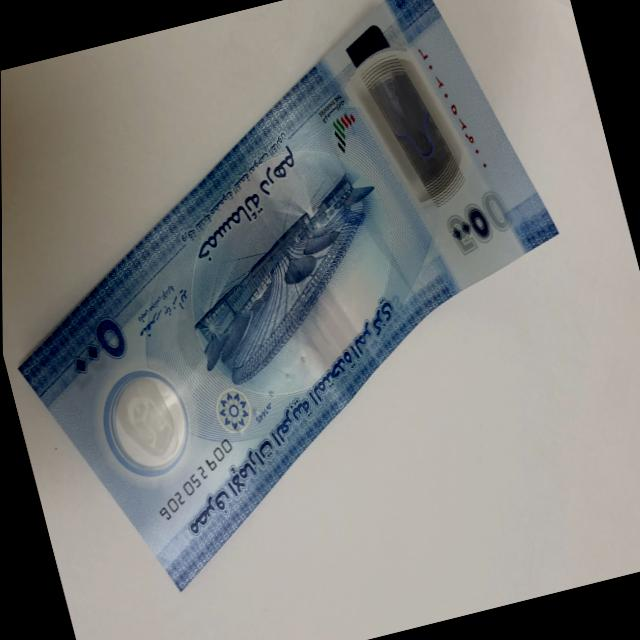500_AED: (11, 0, 562, 592)
